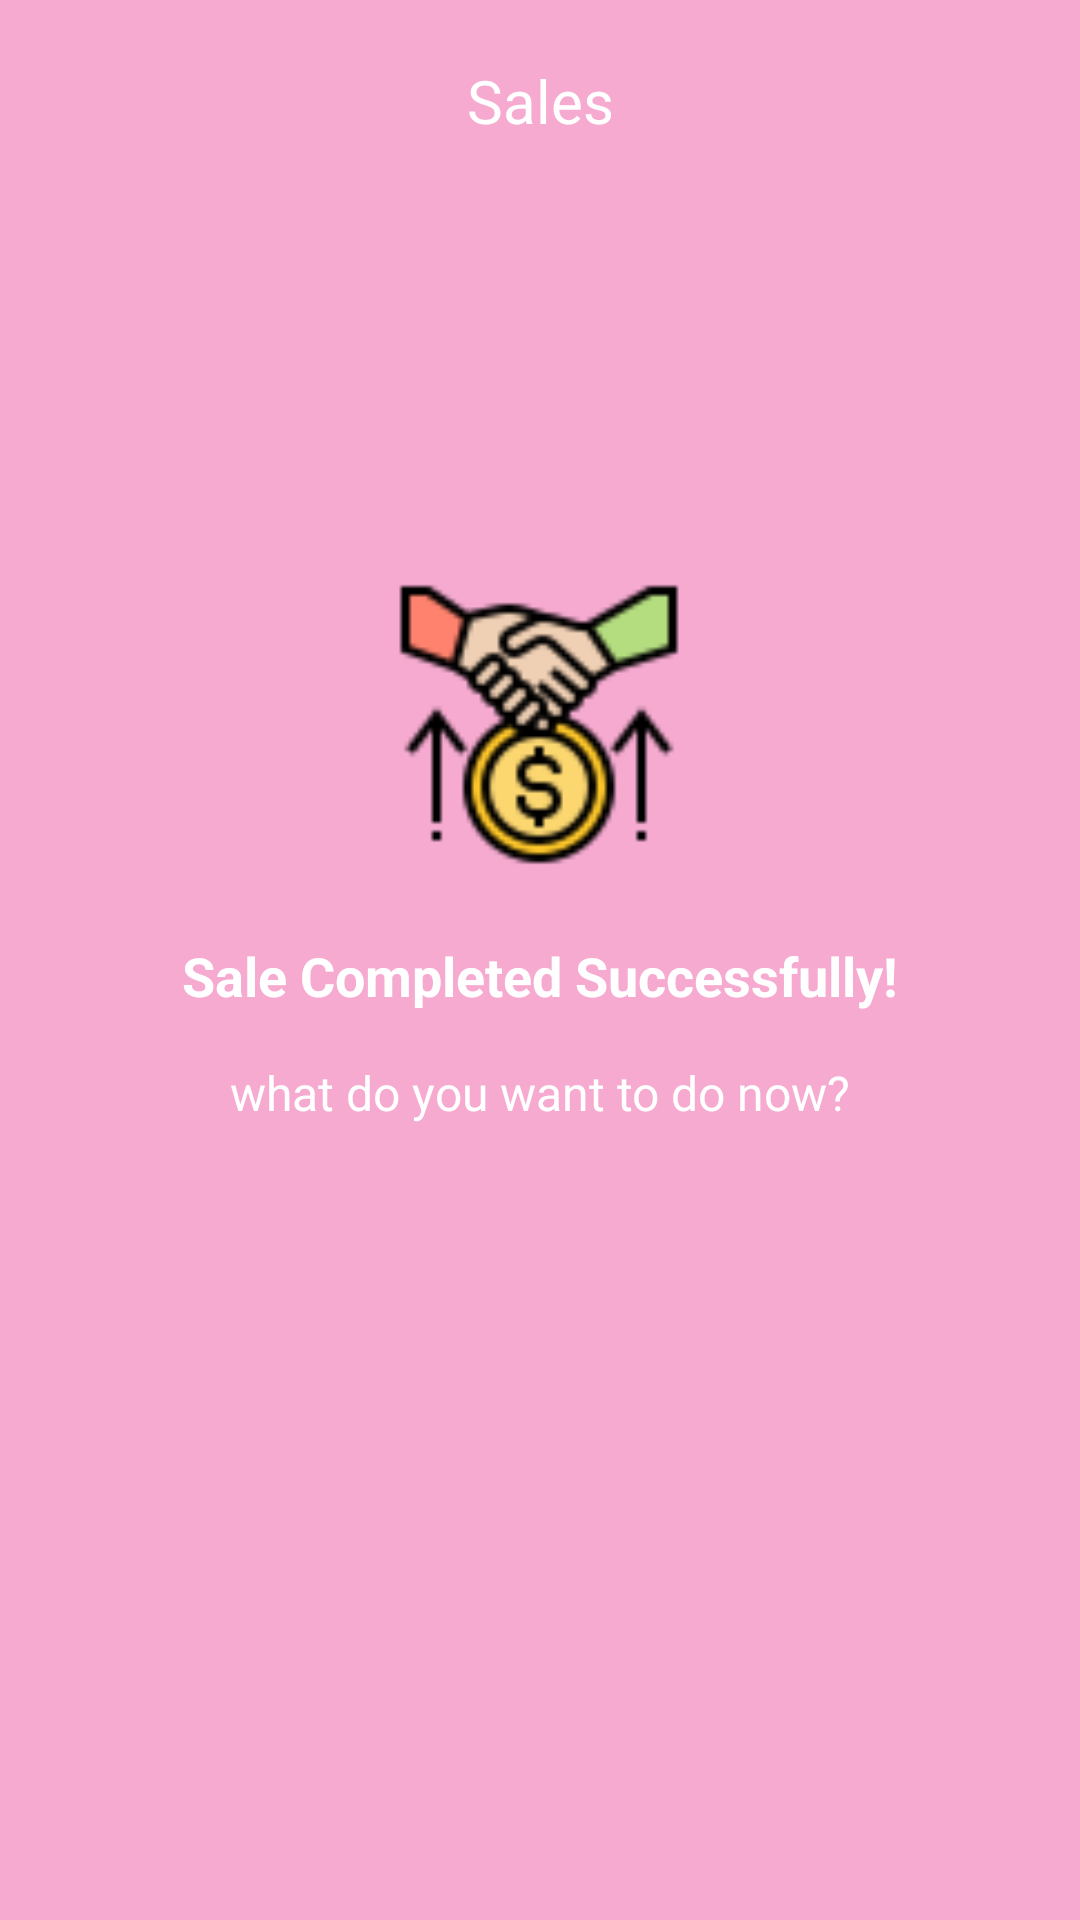

Where icons sit on this 1080px×1920px app screen, as bbox=[x1, y1, x2, y2]:
acquisition: bbox=[399, 585, 679, 864]
